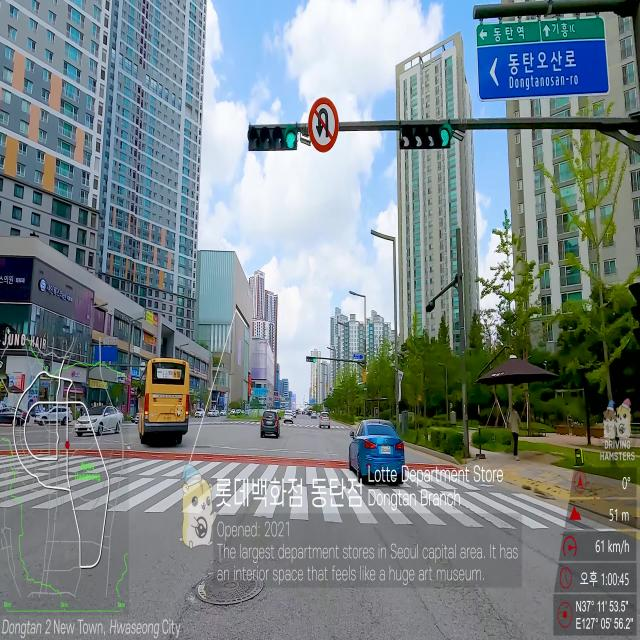Green Light: (284, 128, 296, 150), (438, 127, 451, 147), (312, 358, 316, 362)
